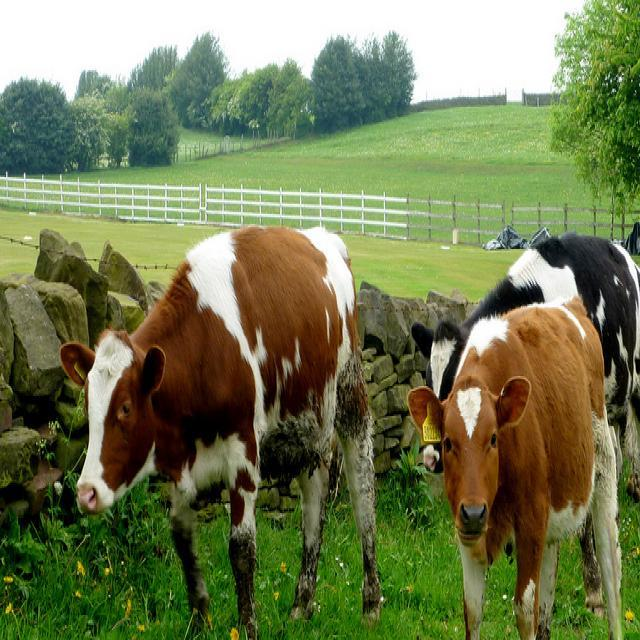cow: (56, 221, 379, 630), (405, 229, 639, 638)
